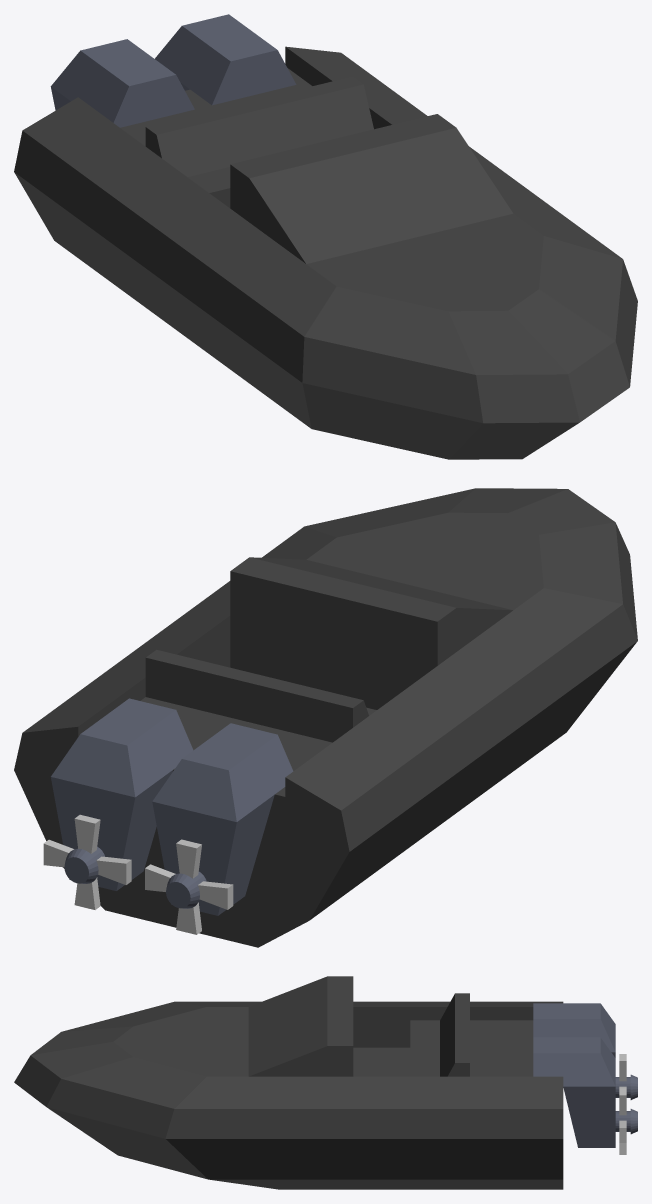
The model's file is watercraftpack_020.glb.
The picture shows the model from 3 angles, top to bottom: view 1: azimuth 30°, elevation 25°; view 2: azimuth 150°, elevation 25°; view 3: azimuth 270°, elevation 25°; orthographic projection. The views are drawn at different scales.
Visible parts, largest first — view 1: Mesh5 Group1 Model, Mesh4 Group5 Group1 Model, Mesh3 Group4 Group1 Model; view 2: Mesh5 Group1 Model, Mesh3 Group4 Group1 Model, Mesh4 Group5 Group1 Model, Mesh2 Group3 Group1 Model, Mesh1 Group2 Group1 Model; view 3: Mesh5 Group1 Model, Mesh4 Group5 Group1 Model, Mesh3 Group4 Group1 Model, Mesh1 Group2 Group1 Model.
Boxes of the visible parts, x1,y1,x2,y2 form: Mesh5 Group1 Model: (14,46,637,459); Mesh4 Group5 Group1 Model: (155,14,296,105); Mesh3 Group4 Group1 Model: (50,39,194,127); Mesh5 Group1 Model: (14,488,637,947); Mesh3 Group4 Group1 Model: (152,723,293,915); Mesh4 Group5 Group1 Model: (51,698,193,890); Mesh2 Group3 Group1 Model: (145,839,233,934); Mesh1 Group2 Group1 Model: (43,814,131,909); Mesh5 Group1 Model: (14,976,563,1189); Mesh4 Group5 Group1 Model: (533,1037,637,1147); Mesh3 Group4 Group1 Model: (533,1003,637,1099); Mesh1 Group2 Group1 Model: (619,1088,626,1154).
Size of the model in its own units: 1.78 by 1.12 by 4.17.
